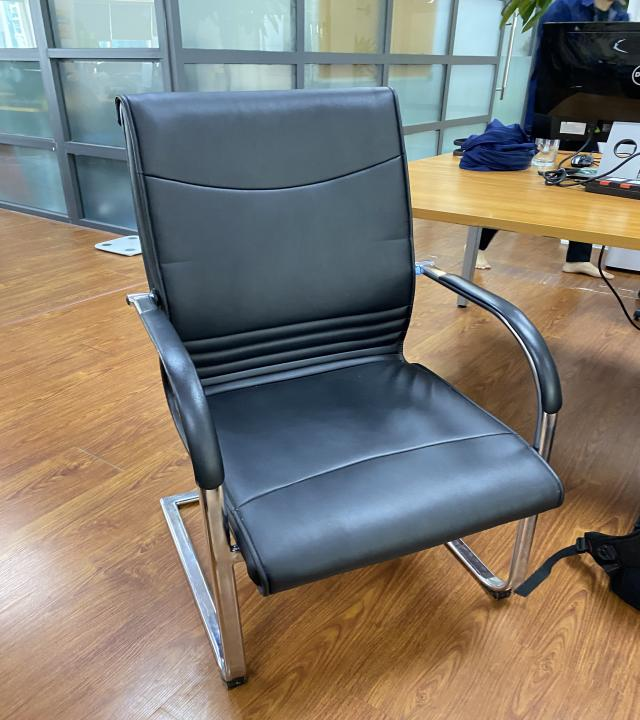SS_03: (109, 82, 567, 694)
